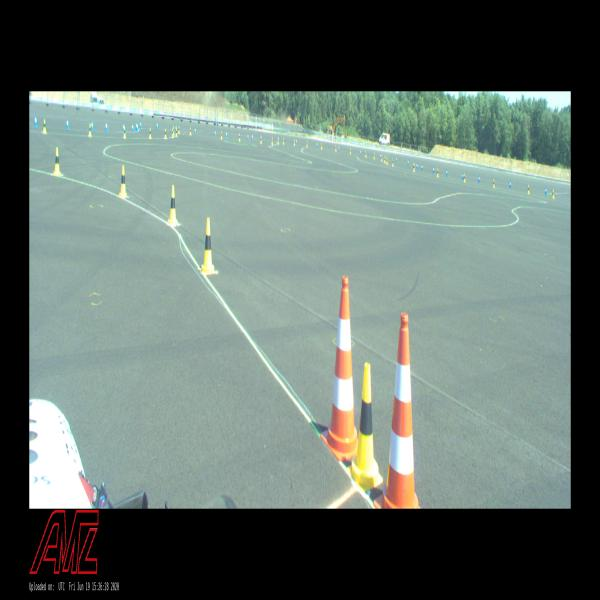blue_cone: (34, 115, 37, 127), (66, 118, 69, 130), (105, 120, 108, 132), (122, 123, 125, 134), (131, 122, 134, 132), (136, 122, 138, 132), (545, 186, 547, 196), (91, 120, 93, 130), (136, 121, 138, 130), (510, 180, 512, 188), (416, 162, 418, 170), (478, 174, 480, 182), (156, 121, 158, 129), (140, 121, 142, 129), (462, 172, 464, 180), (247, 132, 249, 140), (214, 130, 216, 137), (174, 125, 176, 132), (421, 163, 423, 170), (413, 161, 415, 168), (194, 127, 196, 133), (316, 142, 318, 148), (238, 132, 240, 138), (360, 150, 362, 156), (338, 146, 340, 152), (446, 168, 447, 177), (408, 158, 409, 166), (433, 166, 434, 174), (226, 131, 227, 138), (252, 133, 253, 140), (296, 138, 297, 145), (396, 156, 397, 162), (380, 153, 381, 159)
large_orange_cone: (376, 312, 422, 508), (323, 277, 365, 461)
yellow_cone: (349, 362, 383, 488), (200, 219, 216, 275), (168, 185, 178, 225), (119, 164, 128, 198), (53, 147, 61, 175), (88, 123, 92, 137), (43, 118, 46, 134), (123, 126, 126, 138), (149, 127, 152, 138), (527, 184, 530, 194), (164, 128, 167, 138), (552, 189, 554, 200), (493, 178, 495, 188), (172, 128, 174, 138), (464, 174, 466, 183), (436, 168, 438, 176), (386, 156, 388, 164), (260, 136, 262, 144), (175, 128, 177, 136), (271, 136, 273, 144), (373, 152, 375, 159), (392, 159, 394, 166), (178, 126, 180, 133), (413, 164, 415, 171), (277, 137, 279, 144), (335, 145, 337, 151), (306, 141, 308, 147), (173, 125, 174, 135), (190, 126, 191, 134), (365, 150, 366, 158), (381, 153, 382, 161), (239, 134, 240, 142), (221, 131, 222, 138), (294, 139, 295, 146), (384, 156, 385, 163), (350, 148, 351, 154), (321, 143, 322, 149), (283, 138, 284, 144)
